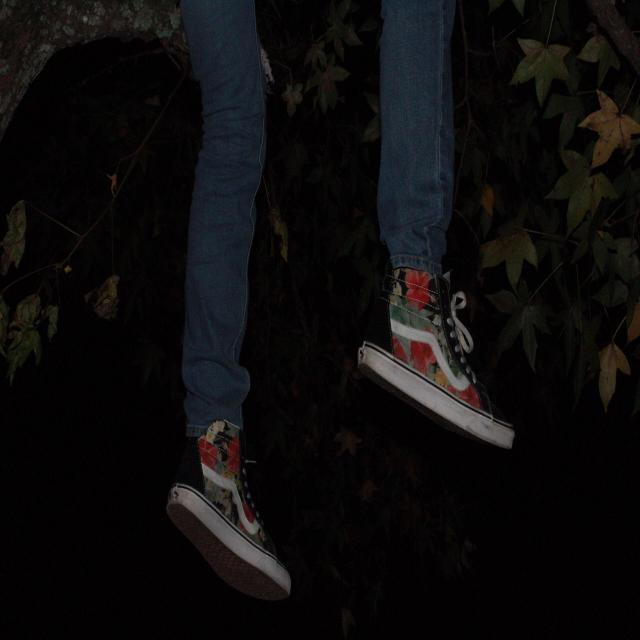shoe: (350, 246, 521, 463), (165, 406, 296, 608)
